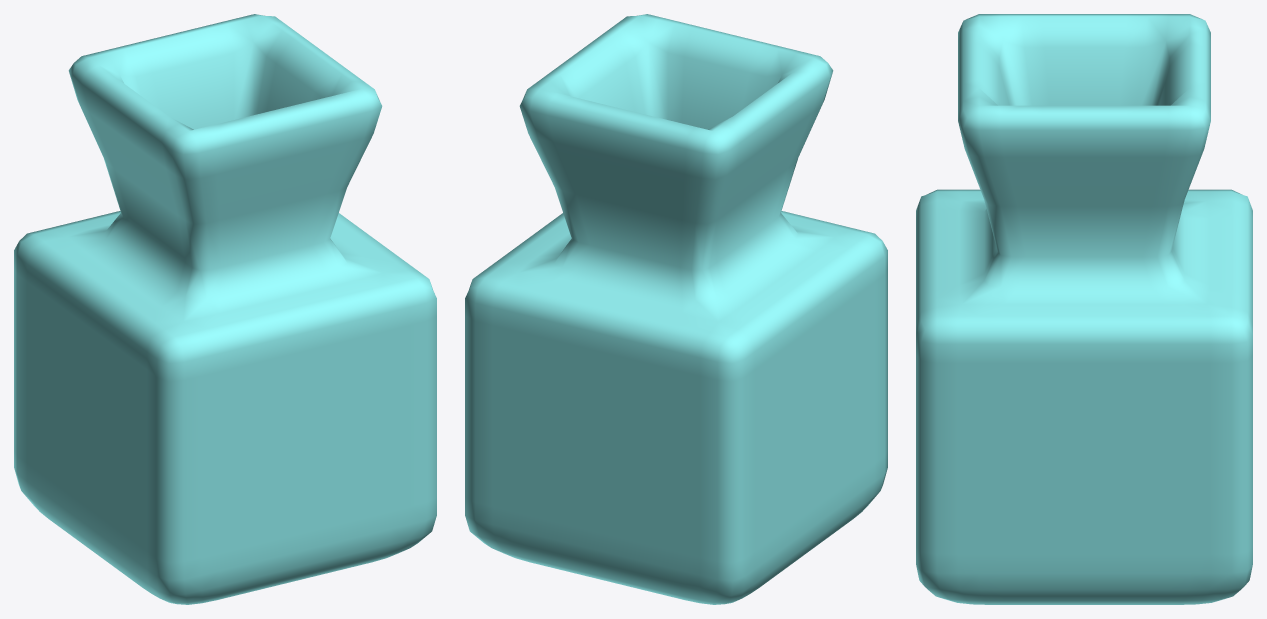
File: potionHP.fbx
3 views of the same model, side by side, from view 1: azimuth 30°, elevation 25°; view 2: azimuth 150°, elevation 25°; view 3: azimuth 270°, elevation 25° (orthographic). The views are drawn at different scales.
Visible parts, largest first — view 1: Box004; view 2: Box004; view 3: Box004.
Boxes of the visible parts, x1=… form: Box004: x1=14, y1=14, x2=436, y2=604; Box004: x1=465, y1=14, x2=887, y2=604; Box004: x1=916, y1=14, x2=1252, y2=604.
Bounding box in the file's own units: 5 × 7.94 × 5.
